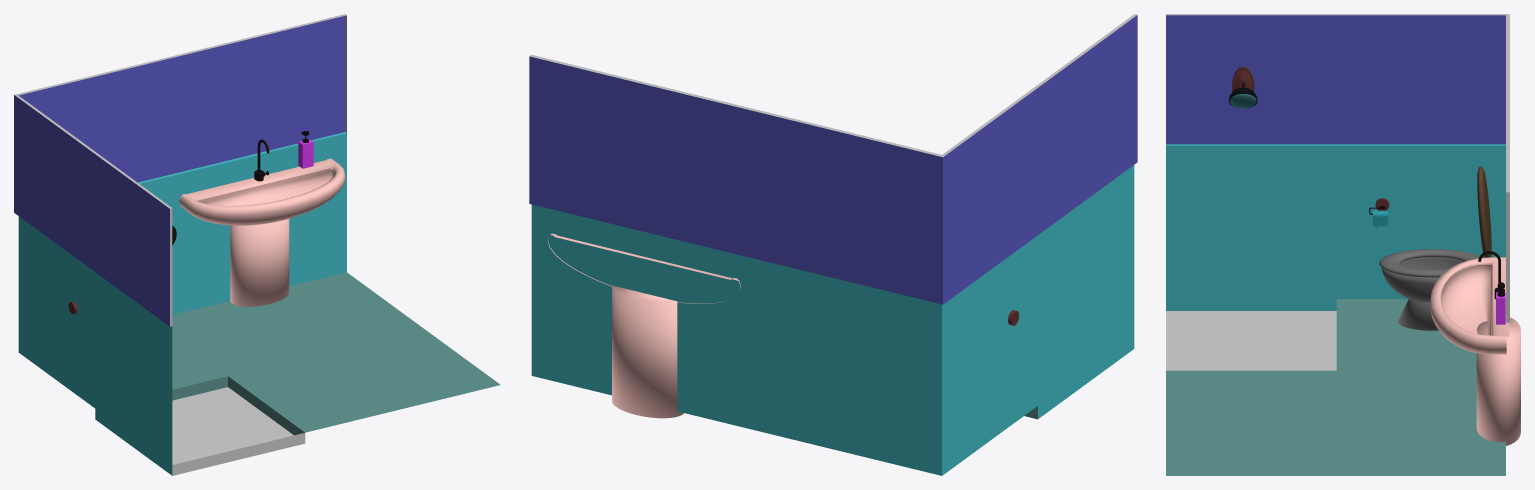
File: bathroom.obj
The picture shows the model from 3 angles, left to right: view 1: azimuth 30°, elevation 25°; view 2: azimuth 150°, elevation 25°; view 3: azimuth 270°, elevation 25°; orthographic projection. The views are drawn at different scales.
Parts seen in each view (by area): view 1: Cube; view 2: Cube; view 3: Cube, toilet.
Part boxes in pixels (x1,y1,x2,y2): Cube: [14, 14, 500, 475]; Cube: [529, 14, 1137, 475]; Cube: [1166, 14, 1520, 475]; toilet: [1379, 166, 1491, 330].
Size of the model in its own units: 19 by 14.68 by 15.97.
